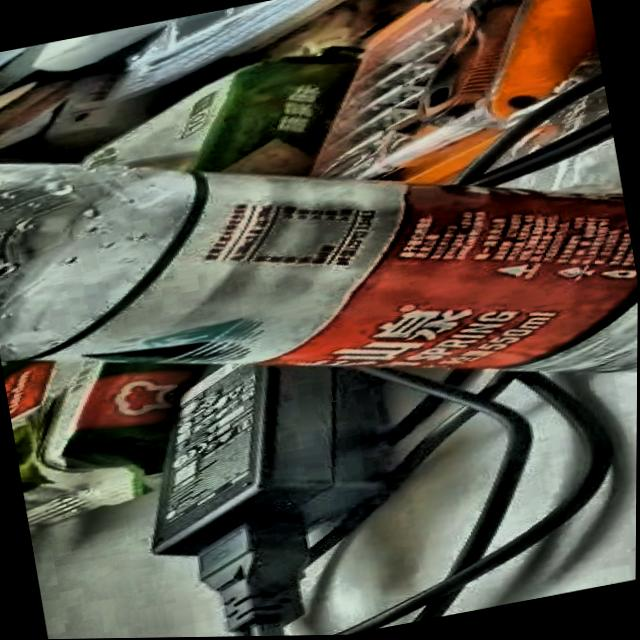plastic: (0, 15, 640, 488)
